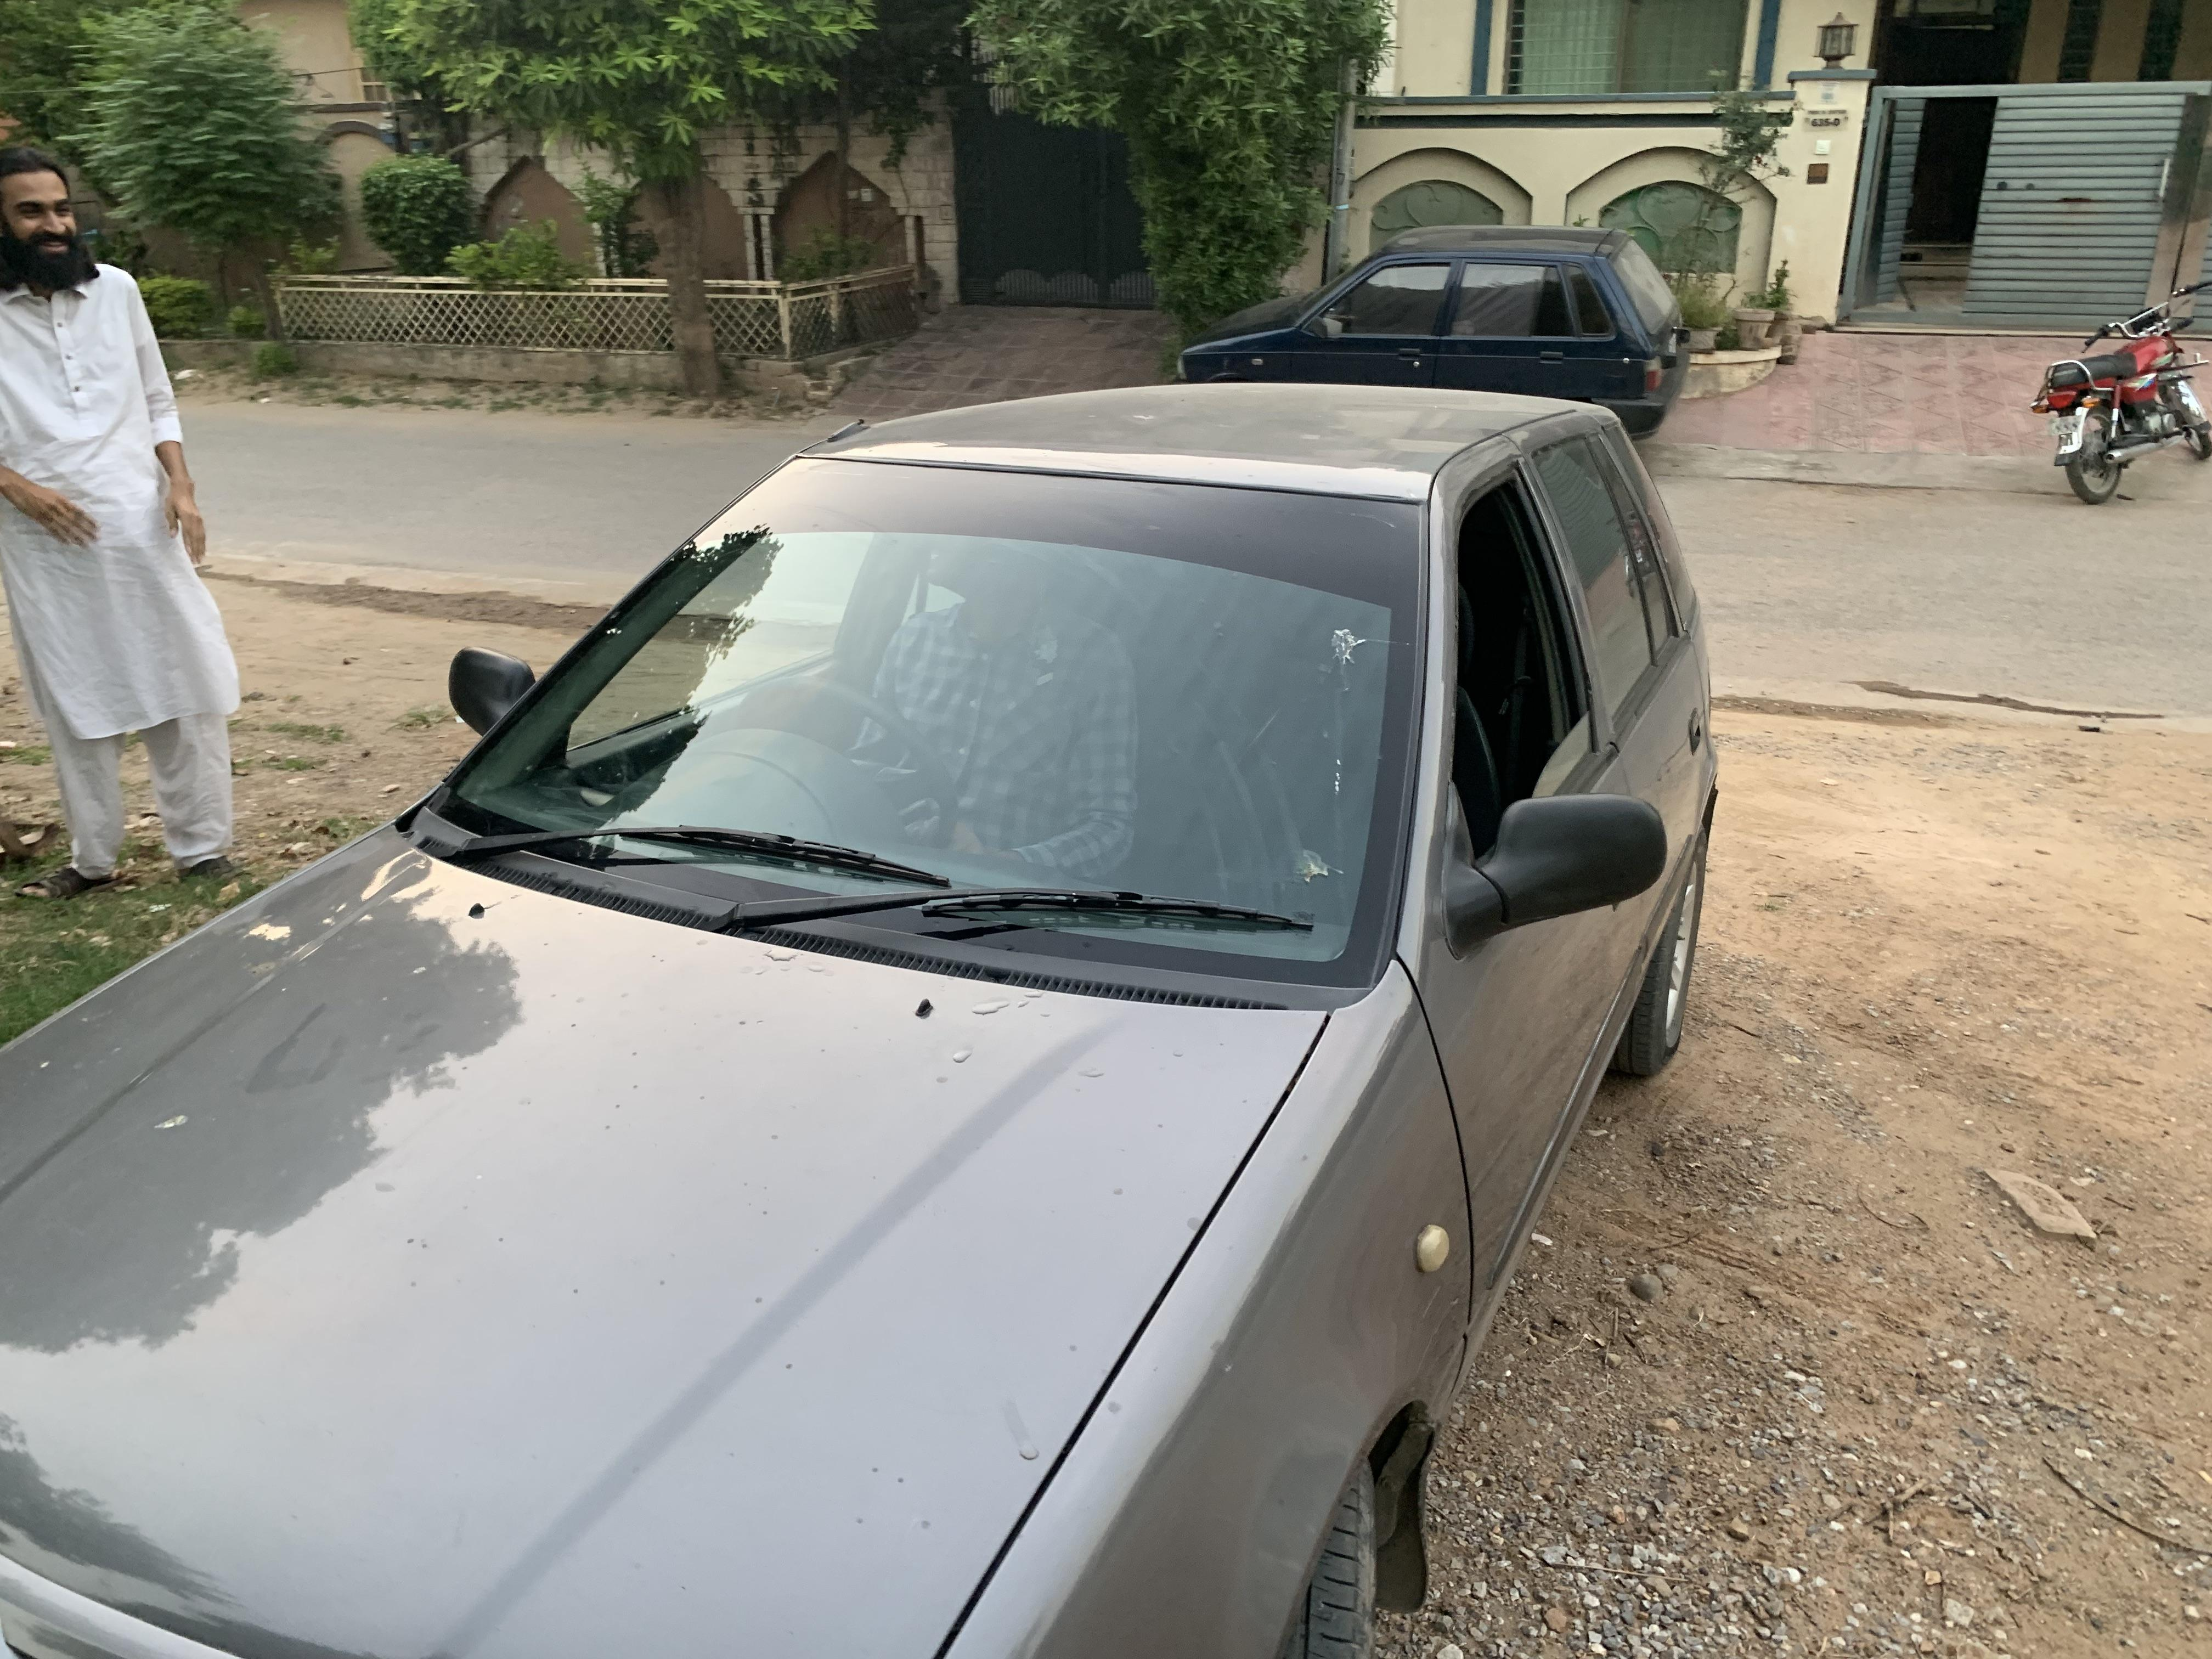windshield: (347, 434, 1446, 1065)
